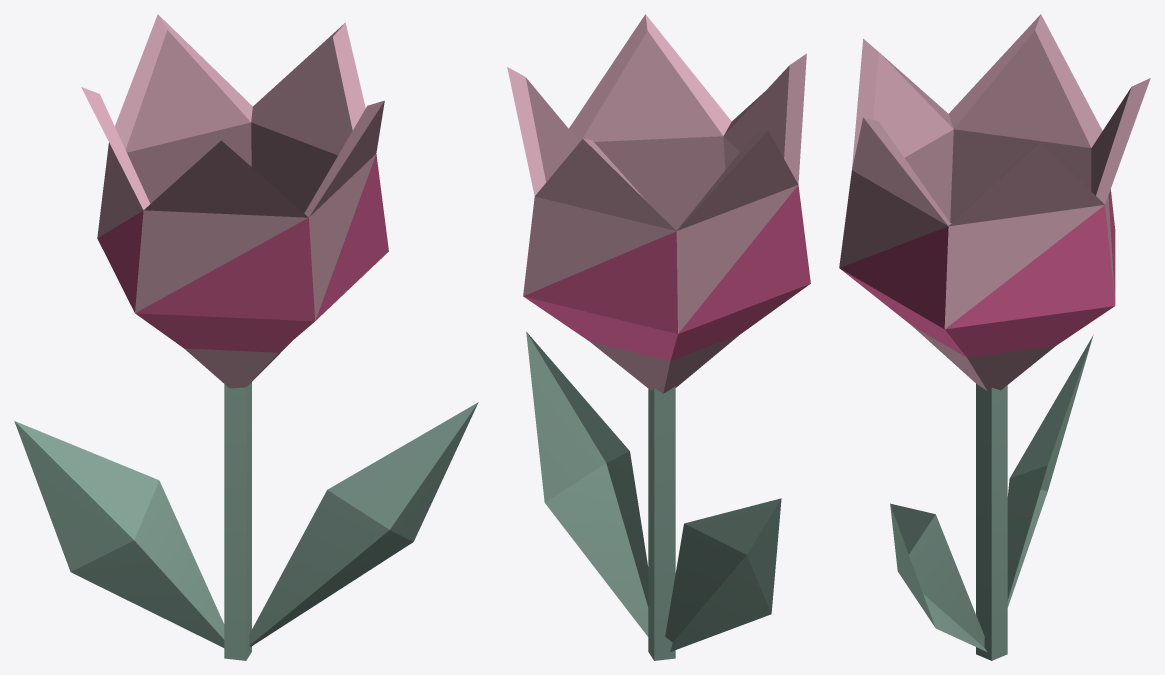
The model's file is tulip.glb.
The picture shows the model from 3 angles, left to right: view 1: azimuth 30°, elevation 25°; view 2: azimuth 150°, elevation 25°; view 3: azimuth 270°, elevation 25°; orthographic projection.
Visible parts, largest first — view 1: root_mesh; view 2: root_mesh; view 3: root_mesh.
Part boxes in pixels (bbox=[...]): root_mesh: bbox=[14, 14, 478, 660]; root_mesh: bbox=[507, 14, 810, 660]; root_mesh: bbox=[839, 14, 1150, 660].
Size of the model in its own units: 0.26 by 0.4 by 0.196.
